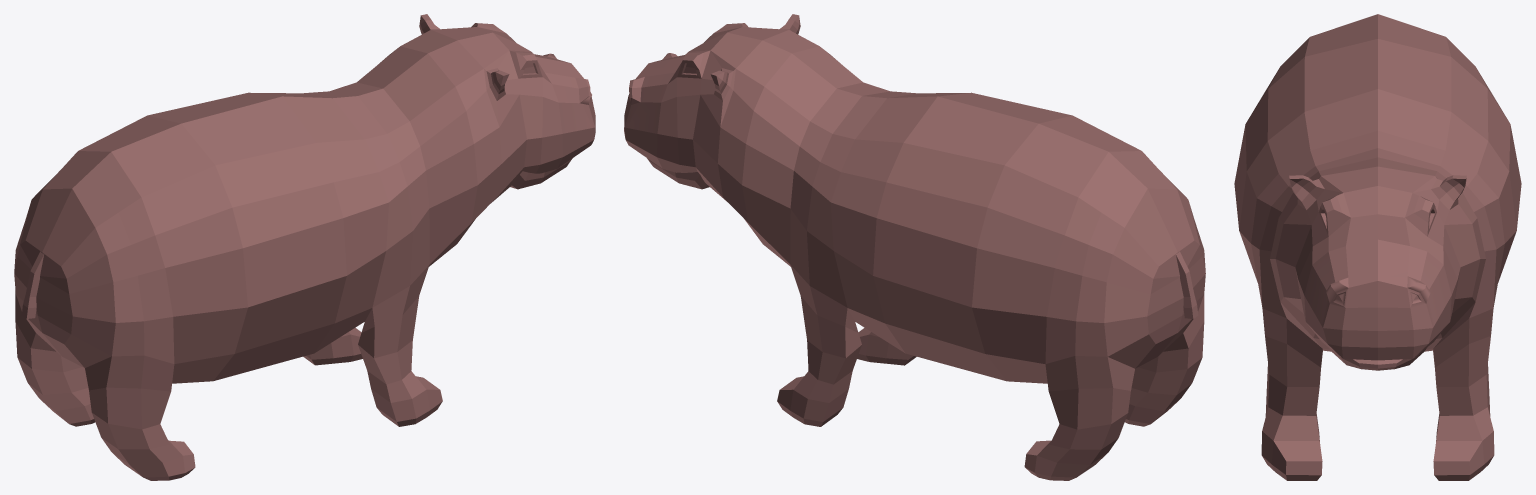
The model's file is Manley_Hippo.fbx.
3 views of the same model, side by side, from view 1: azimuth 30°, elevation 25°; view 2: azimuth 150°, elevation 25°; view 3: azimuth 270°, elevation 25° (orthographic). The views are drawn at different scales.
Parts seen in each view (by area): view 1: Hippo_Body, Hippo_Tail; view 2: Hippo_Body, Hippo_Tail; view 3: Hippo_Body, Hippo_Jaw.
Boxes of the visible parts, box(x1,y1,x2,y2) form: Hippo_Body: box(14, 14, 595, 480); Hippo_Tail: box(21, 251, 44, 318); Hippo_Body: box(624, 14, 1205, 480); Hippo_Tail: box(1176, 251, 1198, 318); Hippo_Body: box(1234, 14, 1521, 480); Hippo_Jaw: box(1328, 347, 1427, 370).
Bounding box in the file's own units: 413 × 229 × 172.
